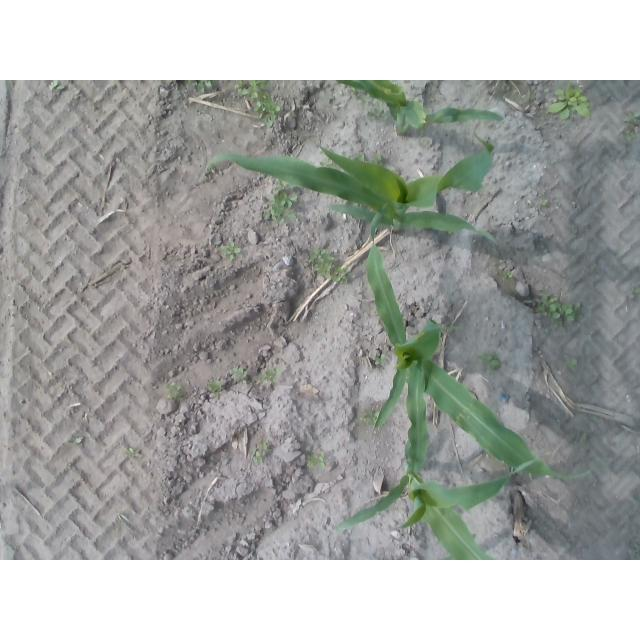Maize: (371, 242, 594, 479), (197, 141, 498, 248), (331, 458, 541, 560), (336, 83, 505, 138)
Weeds: (240, 82, 280, 127), (312, 246, 354, 285), (546, 88, 594, 120), (536, 293, 578, 328), (262, 187, 299, 225), (476, 350, 504, 378), (624, 107, 640, 150), (301, 448, 328, 469), (252, 437, 272, 463), (258, 364, 280, 384), (223, 241, 242, 263), (229, 366, 251, 383), (188, 81, 216, 94), (123, 444, 142, 461), (208, 379, 224, 398), (168, 384, 184, 403), (375, 352, 389, 373), (365, 408, 379, 427), (624, 283, 640, 299), (537, 199, 552, 210)
